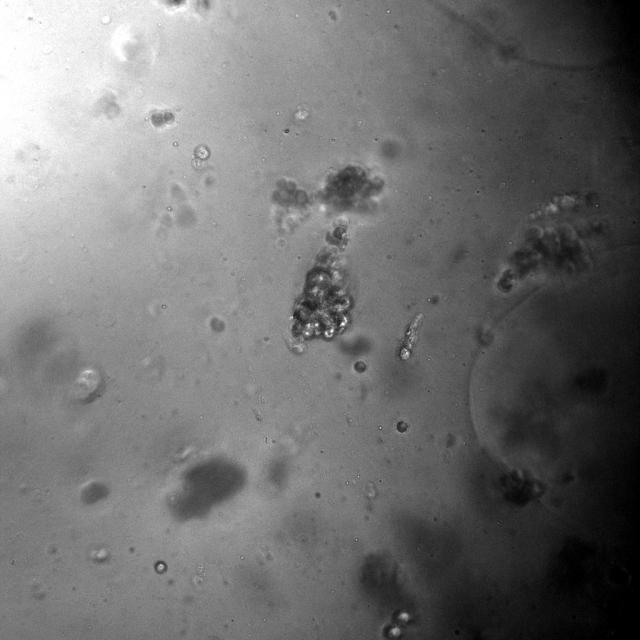organoid: (271, 164, 384, 354), (492, 191, 608, 296), (399, 314, 422, 361), (382, 609, 414, 639), (191, 143, 210, 170), (149, 110, 175, 128), (353, 359, 367, 373), (395, 419, 409, 433), (154, 560, 168, 574), (161, 0, 186, 7)
